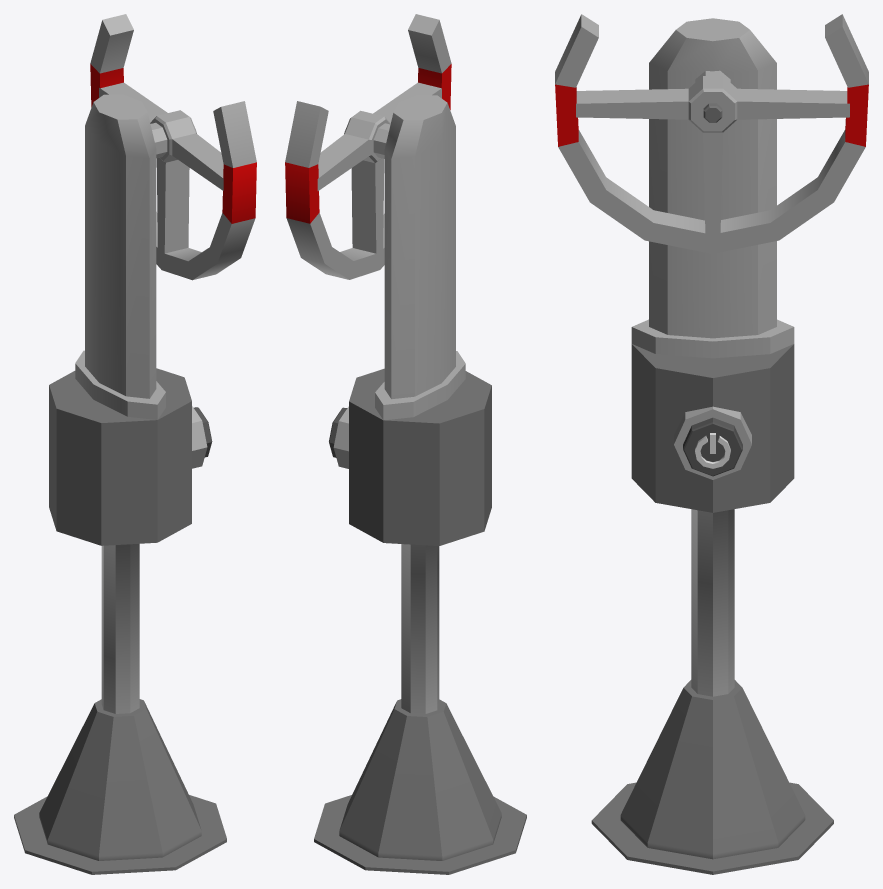
File: ZeppelinSteeringMechanism.fbx
The picture shows the model from 3 angles, left to right: view 1: azimuth 30°, elevation 25°; view 2: azimuth 150°, elevation 25°; view 3: azimuth 270°, elevation 25°; orthographic projection. The views are drawn at different scales.
Visible parts, largest first — view 1: ZeppelinWheelStand, SteeringWheel, Start; view 2: ZeppelinWheelStand, SteeringWheel, Start; view 3: ZeppelinWheelStand, SteeringWheel, StartButton, Start.
Part boxes in pixels (x1,y1,x2,y2): ZeppelinWheelStand: (14,94,226,874); SteeringWheel: (90,14,256,280); Start: (192,406,207,468); ZeppelinWheelStand: (314,95,526,874); SteeringWheel: (285,14,451,279); Start: (333,406,348,468); ZeppelinWheelStand: (591,18,833,874); SteeringWheel: (555,14,868,253); StartButton: (683,417,742,476); Start: (674,406,751,479).
Bounding box in the file's own units: 17.22 × 65.18 × 22.3.
